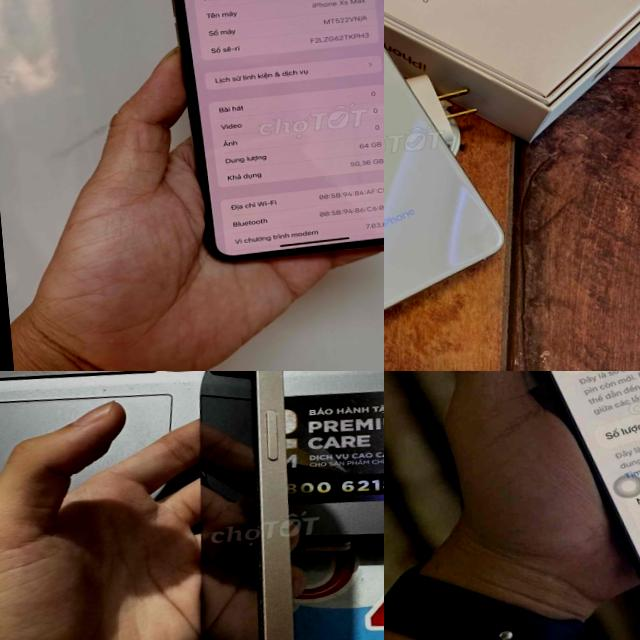gen_12_13: (184, 371, 345, 640)
gen_x_xs: (155, 0, 384, 270), (384, 48, 502, 309)
